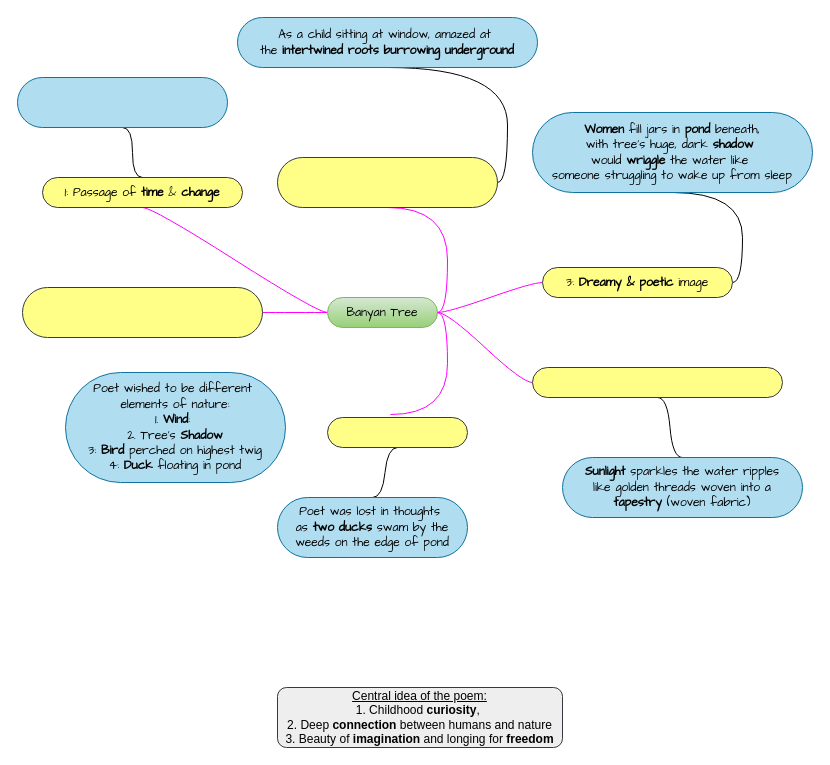
This 830x765 diagram has some shape labels left out. The shapes that lost their labels are listed below. From the top down, each one's centre as x and y in pixels, then its label:
At (122,102): "Tree has Forgotten the poet as child + nesting birds".
At (387,182): "2: Poets curiosity & fascination with nature".
At (142,312): "6: Poet's Wish to experience life from different perspectives".
At (657,382): "4: Rich imagery for beautiful nature".
At (397,432): "5: Deep thoughts".
